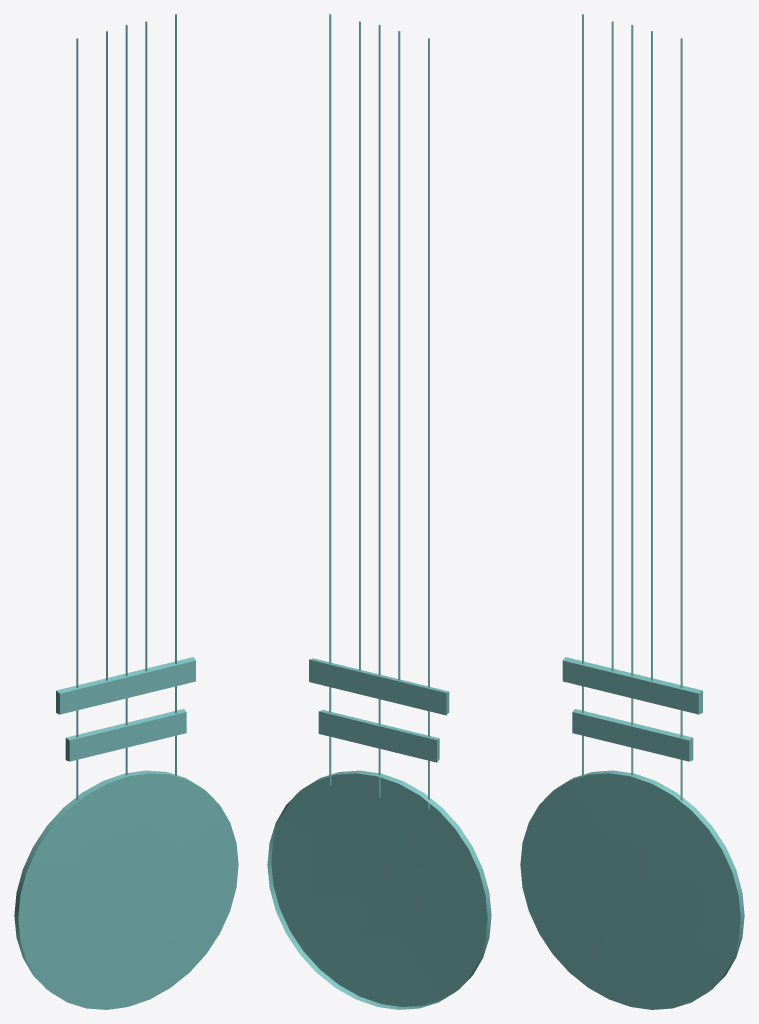
File: SM_GFClock_01c.FBX
3 renders of one model, left to right at view 1: azimuth 30°, elevation 25°; view 2: azimuth 150°, elevation 25°; view 3: azimuth 330°, elevation 25°, orthographic.
Visible parts, largest first — view 1: SM_GFClock_01c_SM_GFClock_01c_LOD0; view 2: SM_GFClock_01c_SM_GFClock_01c_LOD0; view 3: SM_GFClock_01c_SM_GFClock_01c_LOD0.
Boxes of the visible parts, box(x1,y1,x2,y2) form: SM_GFClock_01c_SM_GFClock_01c_LOD0: box(14, 14, 238, 1009); SM_GFClock_01c_SM_GFClock_01c_LOD0: box(267, 14, 491, 1009); SM_GFClock_01c_SM_GFClock_01c_LOD0: box(520, 14, 744, 1009).
Size of what is drawn, in the model's own units: 22.34 by 95 by 0.7626.
